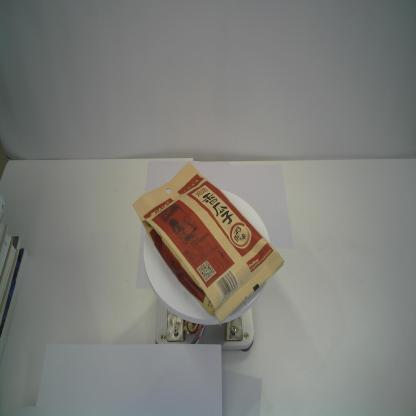Dried Food: (132, 162, 284, 328)
